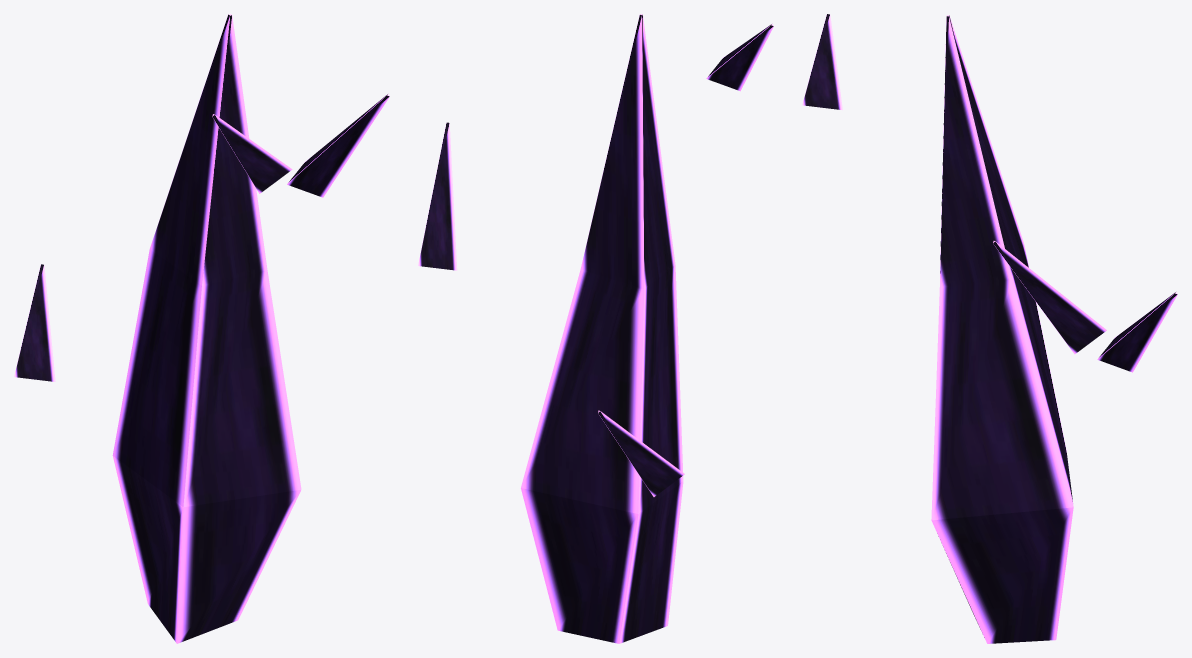
The model's file is void_shard.glb.
3 views of the same model, side by side, from view 1: azimuth 30°, elevation 25°; view 2: azimuth 150°, elevation 25°; view 3: azimuth 270°, elevation 25° (orthographic). The views are drawn at different scales.
Visible parts, largest first — view 1: VoidShard; view 2: VoidShard; view 3: VoidShard.
Boxes of the visible parts, x1,y1,x2,y2 form: VoidShard: (14,14,389,643); VoidShard: (418,14,773,643); VoidShard: (802,14,1177,643).
Size of the model in its own units: 0.178 by 0.3406 by 0.1882.
1 material, 1 textured.
